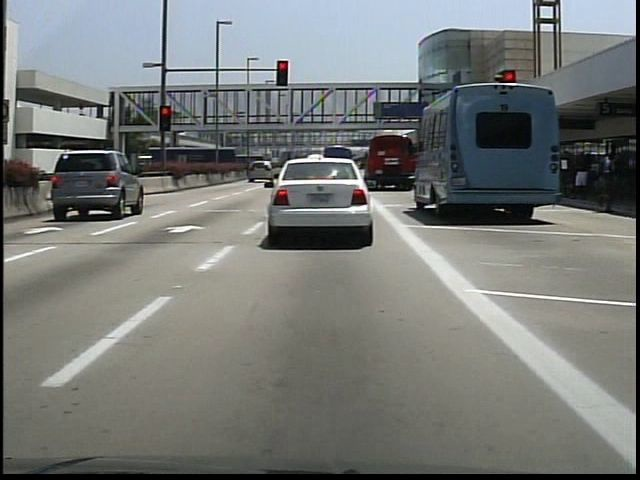person: (589, 146, 620, 213), (571, 150, 591, 201)
